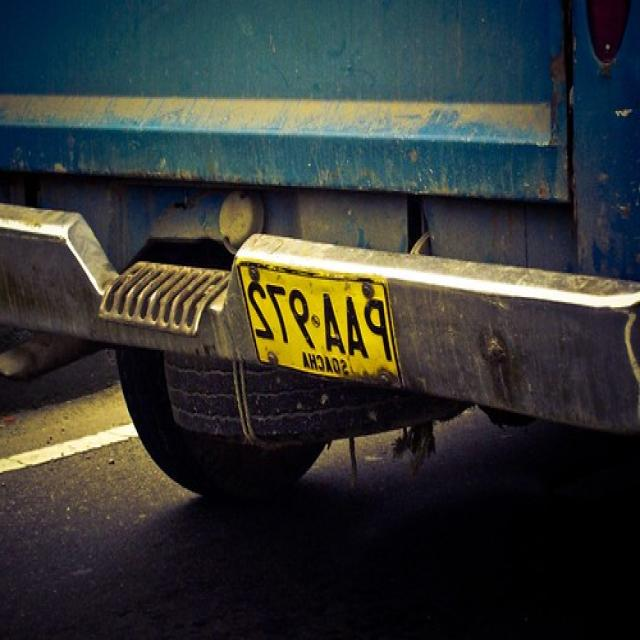placas: (236, 262, 395, 362)
